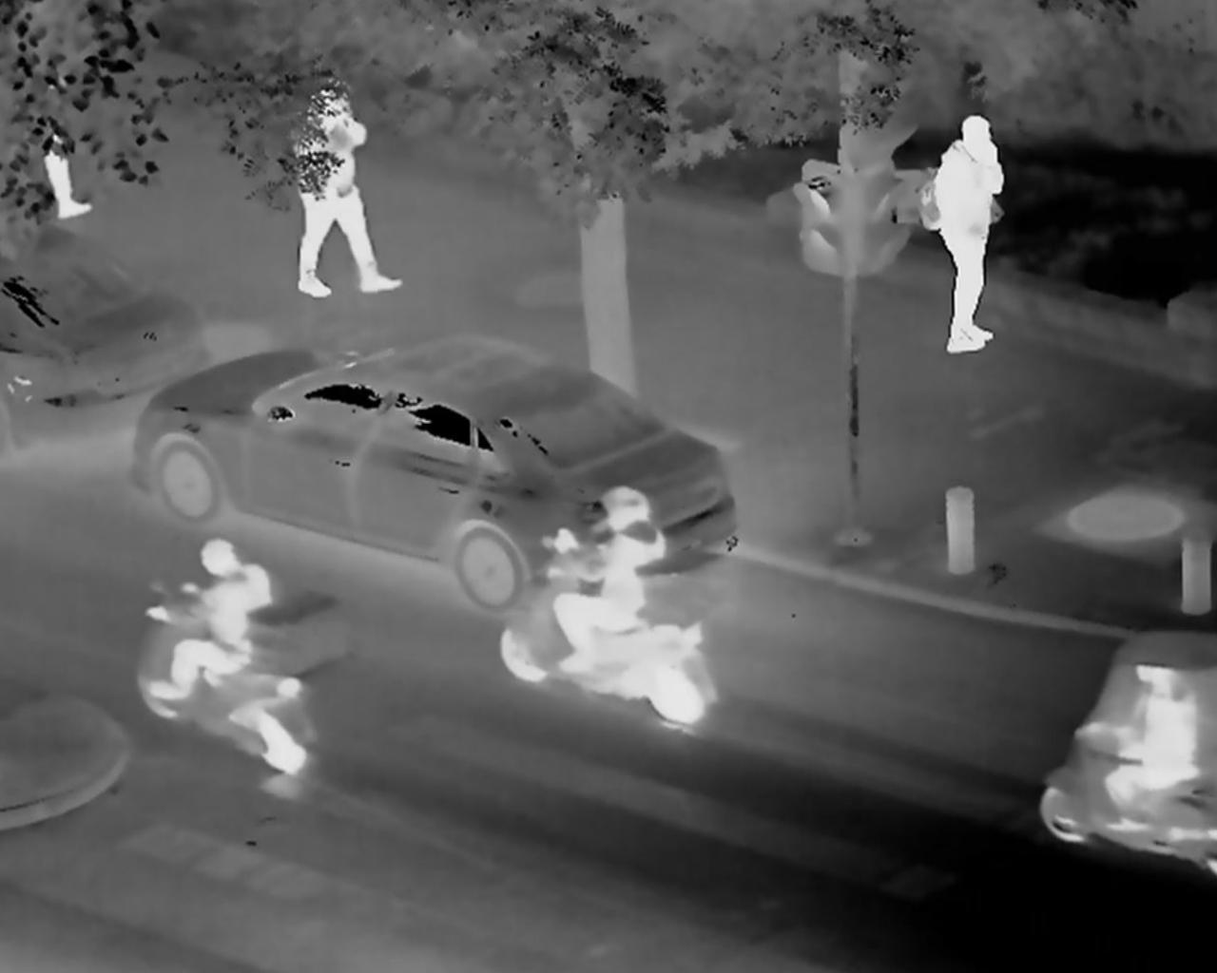person: (173, 540, 298, 755), (288, 68, 402, 288), (926, 113, 1013, 366), (557, 490, 662, 673), (18, 53, 97, 221)
